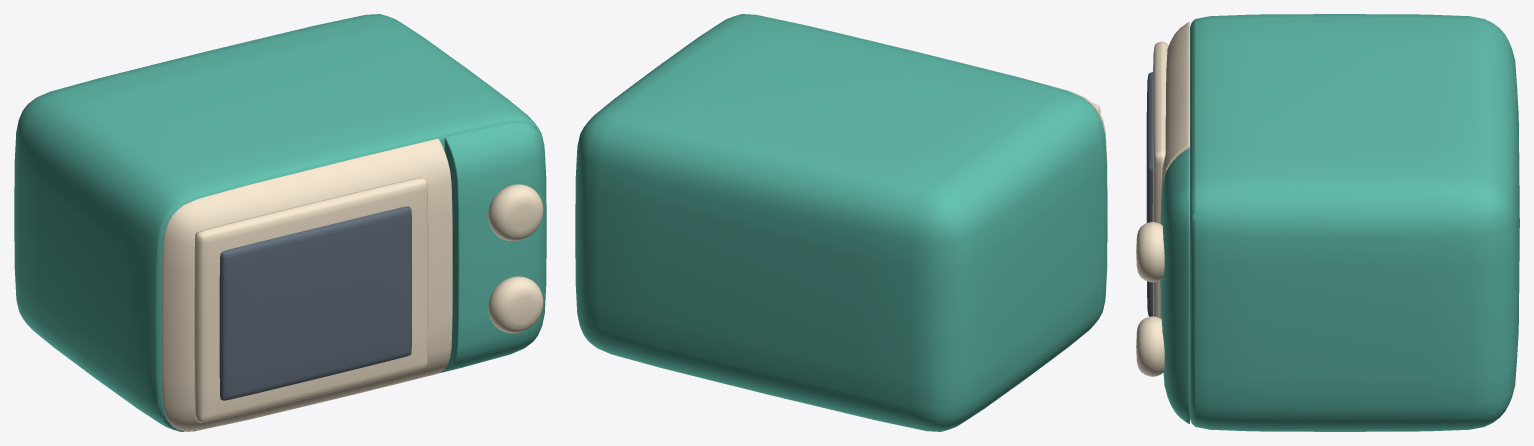
Rendered from microwave_c.glb.
3 renders of one model, left to right at view 1: azimuth 30°, elevation 25°; view 2: azimuth 150°, elevation 25°; view 3: azimuth 270°, elevation 25°, orthographic. The views are drawn at different scales.
Visible parts, largest first — view 1: body, door; view 2: body; view 3: body, door.
Part boxes in pixels (<box>): body: <box>14,14,546,431</box>; door: <box>161,138,452,431</box>; body: <box>575,14,1107,431</box>; body: <box>1136,14,1519,431</box>; door: <box>1146,22,1189,318</box>.
Size of the model in its own units: 0.5 by 0.3 by 0.405.
